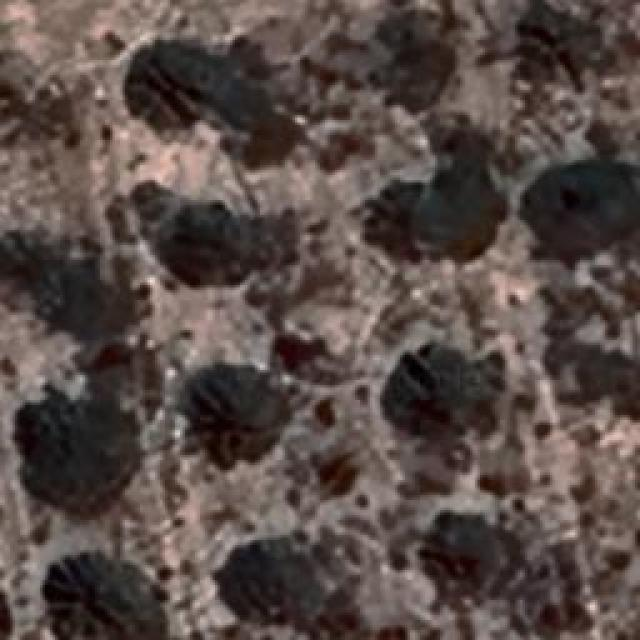PalmTree: (22, 394, 136, 504), (38, 544, 144, 632), (390, 338, 485, 432), (128, 38, 226, 120), (168, 204, 256, 294), (220, 528, 310, 612), (195, 375, 275, 465), (426, 505, 504, 593), (541, 168, 629, 240), (0, 224, 60, 312), (368, 176, 438, 249), (521, 12, 584, 68)
